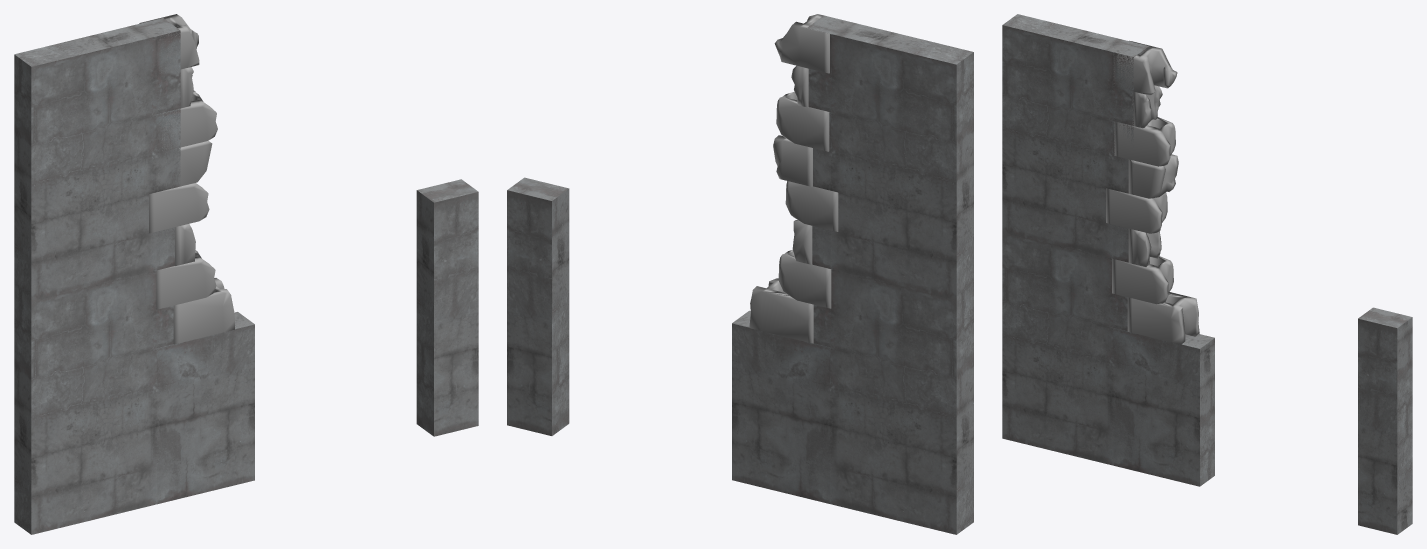
File: wall_door_02_Broken_02.fbx
3 views of the same model, side by side, from view 1: azimuth 30°, elevation 25°; view 2: azimuth 150°, elevation 25°; view 3: azimuth 330°, elevation 25° (orthographic). The views are drawn at different scales.
Visible parts, largest first — view 1: wall_door_02_Broken_02; view 2: wall_door_02_Broken_02; view 3: wall_door_02_Broken_02.
Part boxes in pixels (x1,y1,x2,y2): wall_door_02_Broken_02: [14, 14, 478, 534]; wall_door_02_Broken_02: [507, 14, 973, 534]; wall_door_02_Broken_02: [1002, 14, 1412, 534].
Bounding box in the file's own units: 300 × 300 × 21.39.
